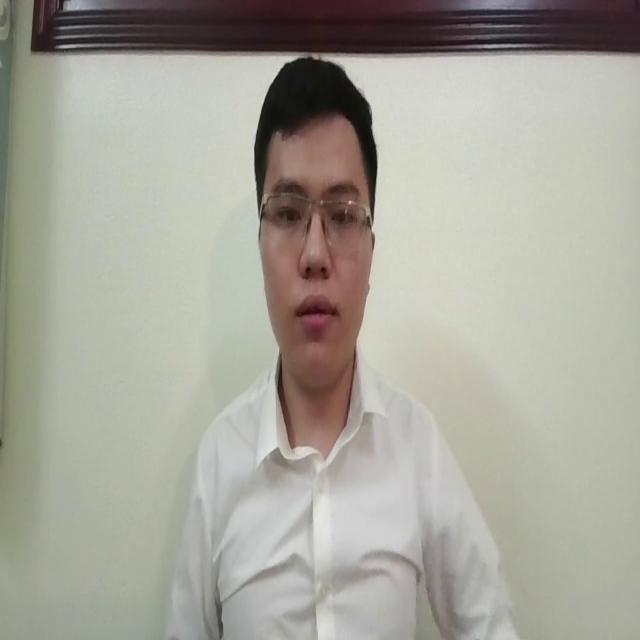student: (167, 59, 523, 640)
